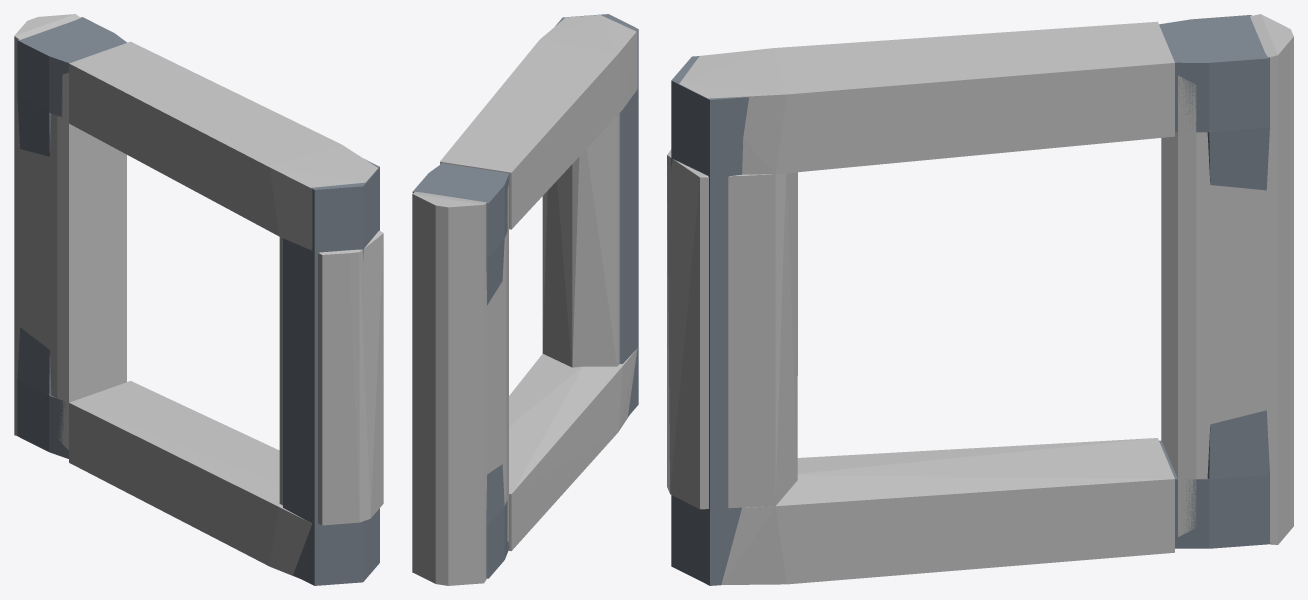
File: SM_Bld_Door_02_Handle_02.fbx
The picture shows the model from 3 angles, left to right: view 1: azimuth 30°, elevation 25°; view 2: azimuth 150°, elevation 25°; view 3: azimuth 270°, elevation 25°; orthographic projection. The views are drawn at different scales.
Parts seen in each view (by area): view 1: SM_Bld_Door_02_Handle_02_ConvexHulls, SM_Bld_Door_02_Handle_02; view 2: SM_Bld_Door_02_Handle_02_ConvexHulls, SM_Bld_Door_02_Handle_02; view 3: SM_Bld_Door_02_Handle_02_ConvexHulls, SM_Bld_Door_02_Handle_02.
Part boxes in pixels (left/top/right/bottom): SM_Bld_Door_02_Handle_02_ConvexHulls: left=14, top=14, right=383, bottom=578; SM_Bld_Door_02_Handle_02: left=17, top=17, right=379, bottom=585; SM_Bld_Door_02_Handle_02_ConvexHulls: left=412, top=15, right=637, bottom=585; SM_Bld_Door_02_Handle_02: left=412, top=14, right=638, bottom=578; SM_Bld_Door_02_Handle_02_ConvexHulls: left=667, top=14, right=1293, bottom=584; SM_Bld_Door_02_Handle_02: left=671, top=15, right=1269, bottom=585.
Bounding box in the file's own units: 7.51 × 23.34 × 20.13.
Materials: 2 (1 with a texture image).
